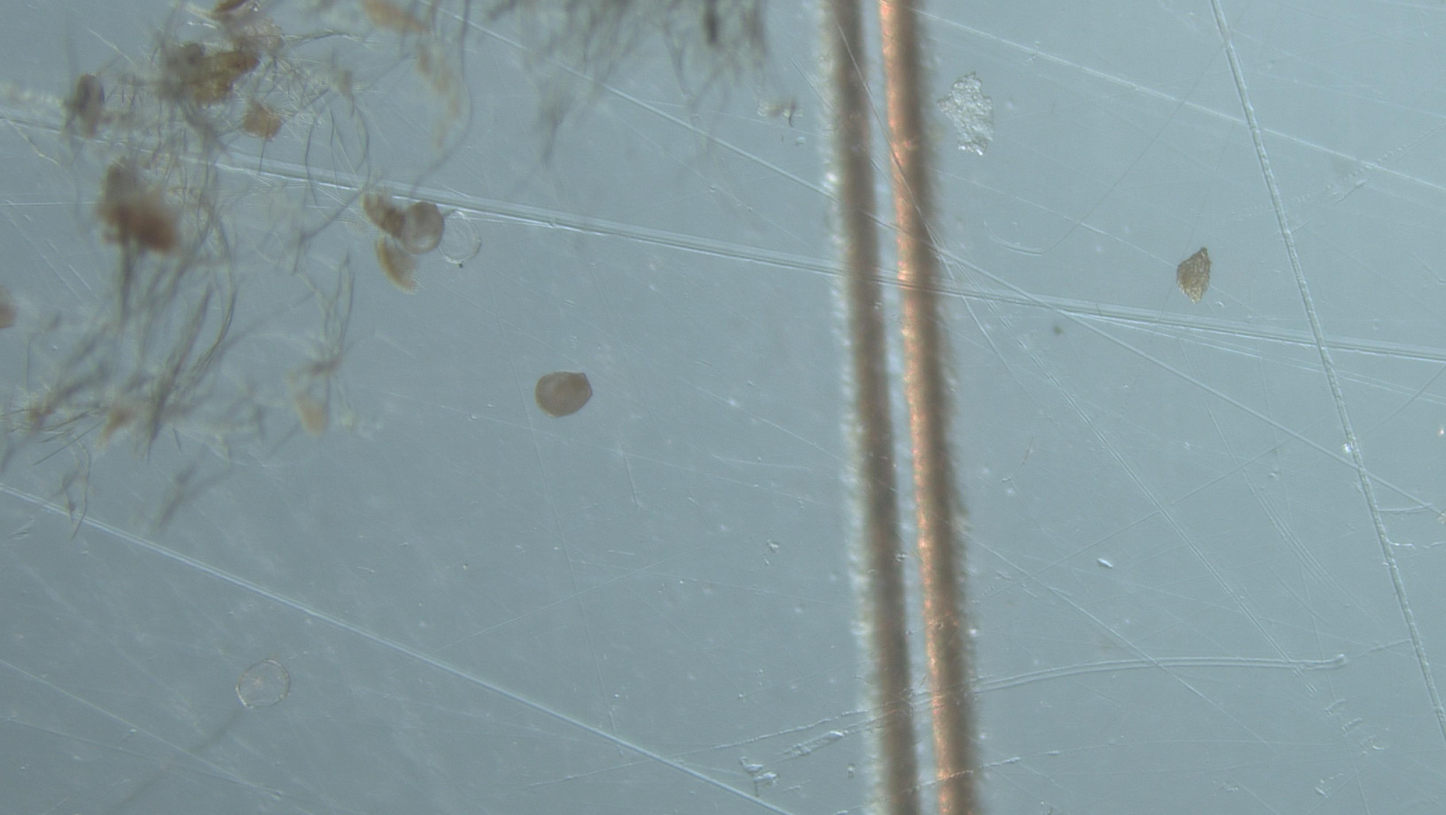dead: (236, 660, 291, 708), (439, 210, 482, 268)
live: (534, 372, 593, 418), (399, 202, 445, 255)
